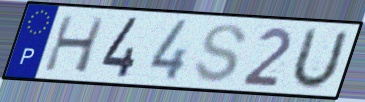2: (240, 24, 295, 89)
4: (147, 18, 189, 83), (99, 15, 140, 80)
H: (41, 13, 108, 75)
S: (192, 22, 250, 84)
U: (286, 26, 352, 91)
